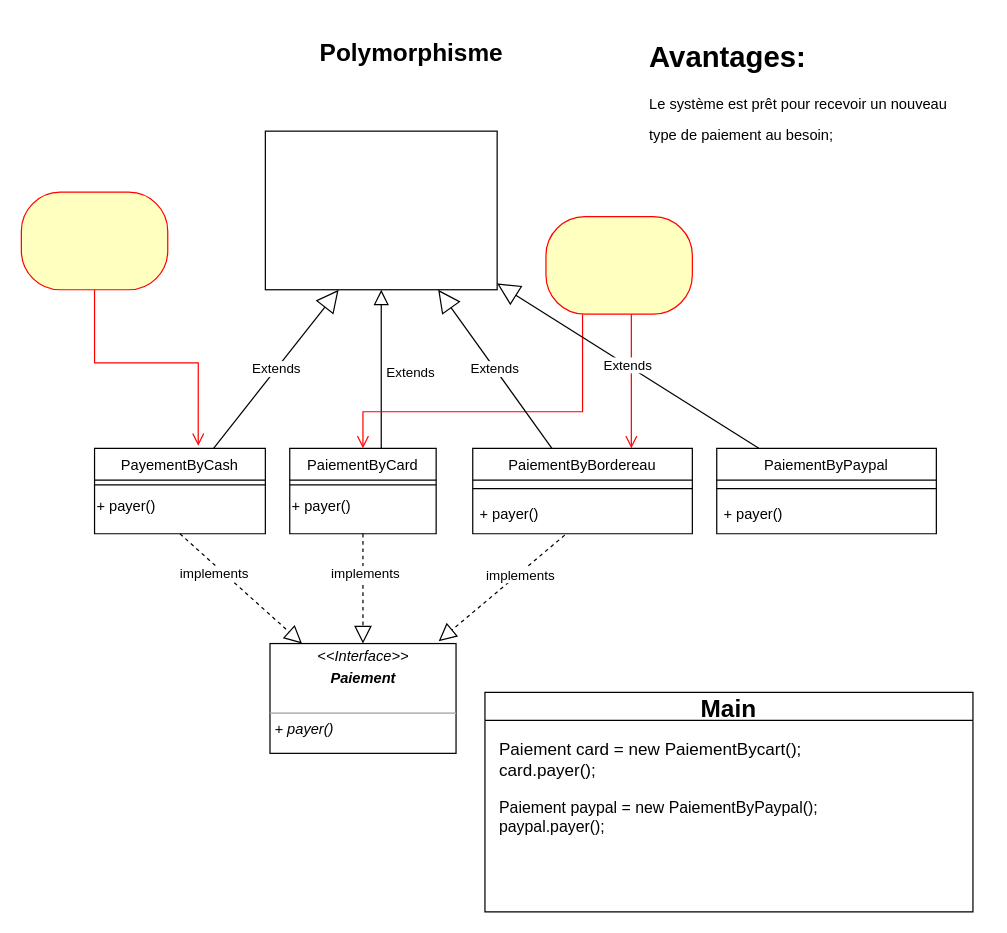
This 1007x933 diagram has some shape labels left out. Each missing label, with the centre of its shape:
<<Class Abstract >> Paiement + date:Date + montant : double + status: boolean: (x=380, y=210)
Besoin de communiquer avec la banque: (x=618, y=264)
Pas besoin de communiquer ailleurs: (x=94, y=240)
